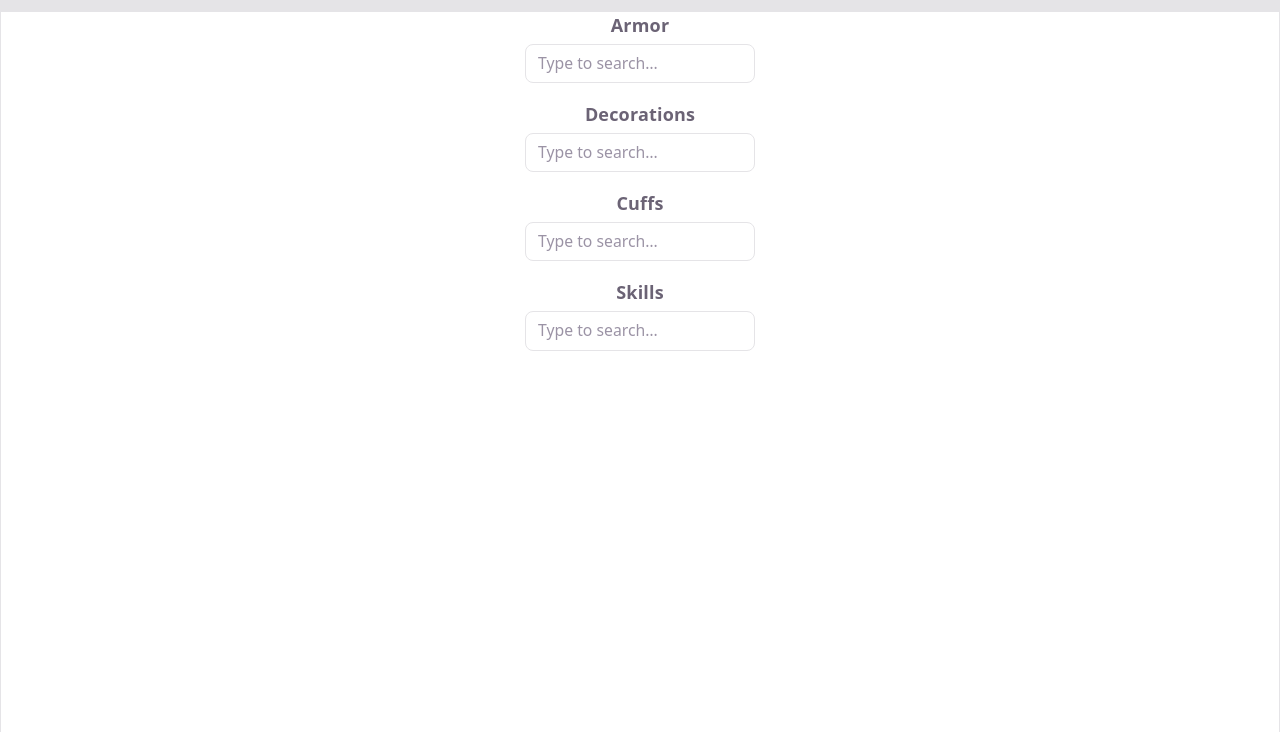
it: EquipmentExclusionPicker › hover skill summary (armor/decorations/cuffs) › shows the hovered item's skills in a persistent summary line below the results
Type "Leather" into the field named "Search armor pieces to exclude". click: (640,63)
box: [525,44,755,83]
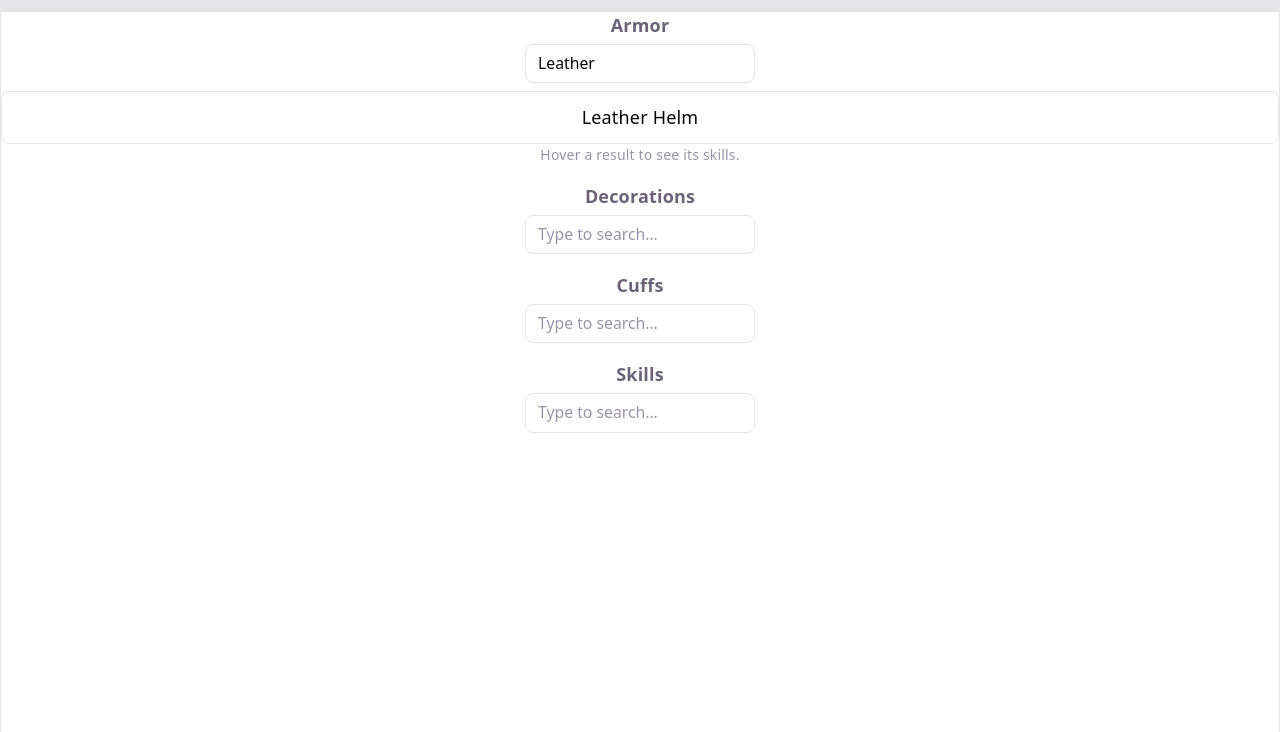
Hover over the option "Leather Helm" at (640,117), box [582,105,698,129]
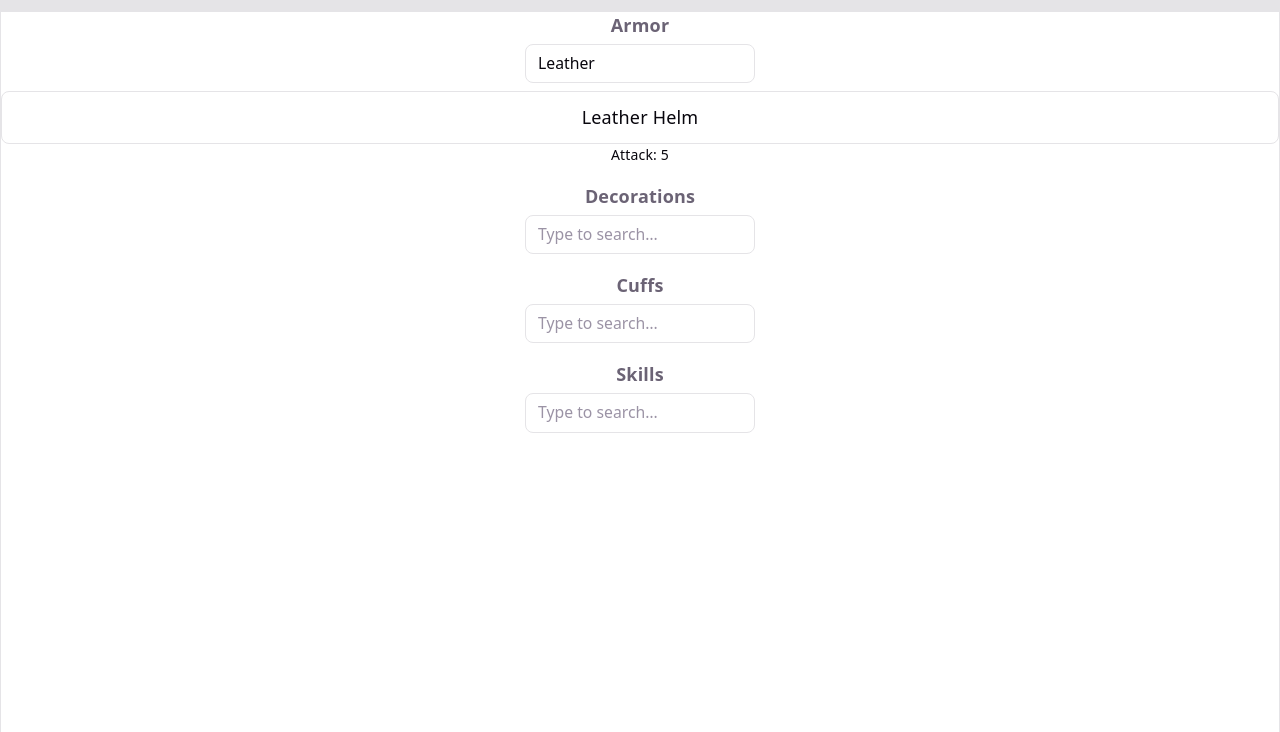
Result: the text "Attack: 5" is shown at [611,145,669,164]
Move the pointer off the option "Leather Helm", box [582,105,698,129]
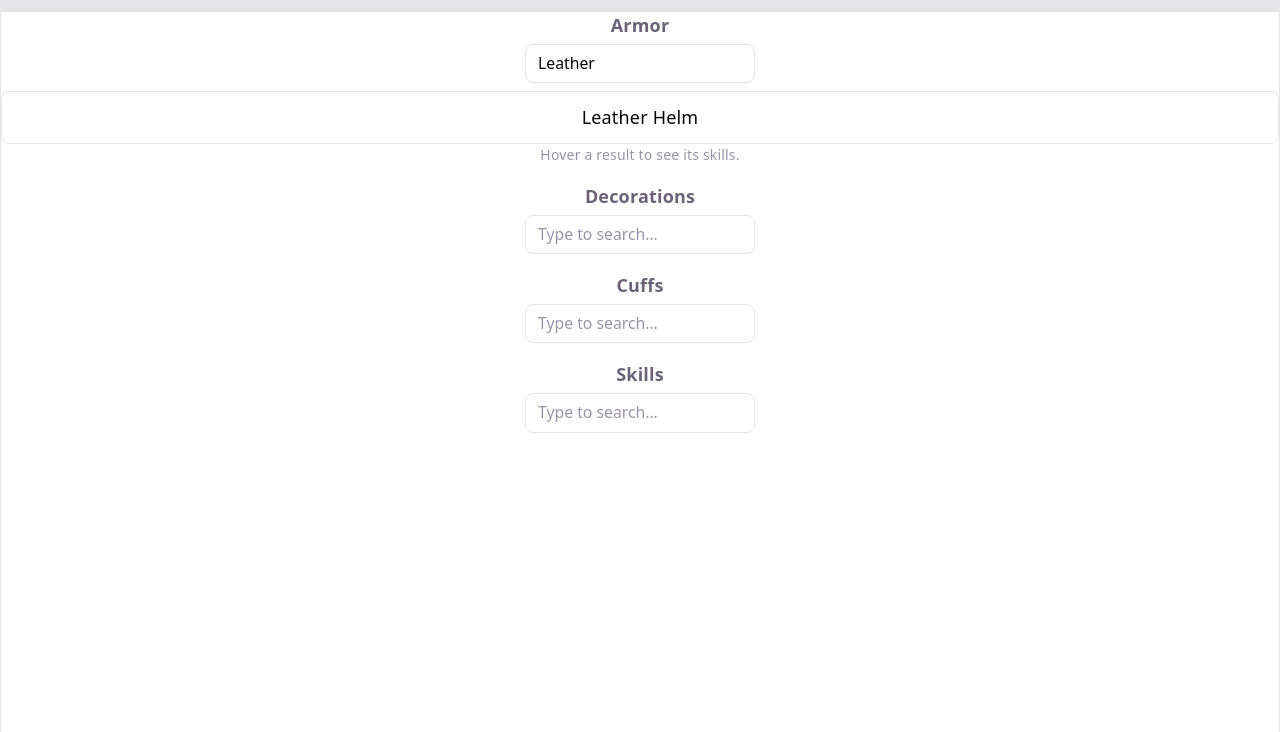
Result: the text "Hover a result to see its skills." is shown at [540,145,740,164]
